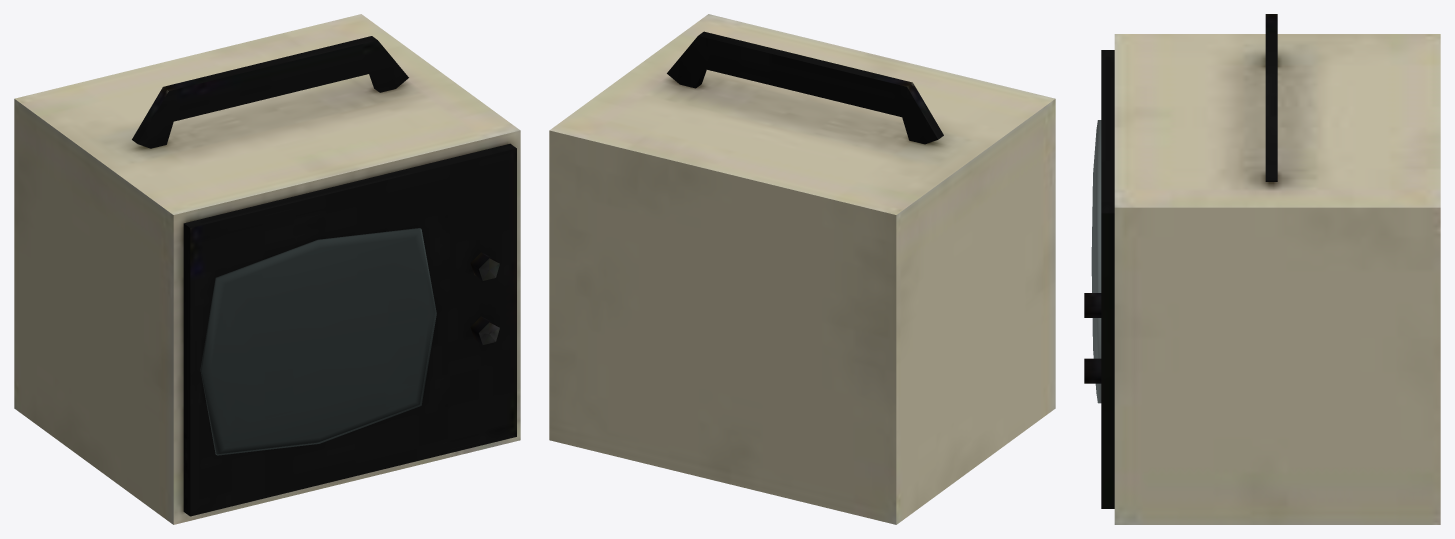
Rendered from tv_portable_lod1_web.glb.
The picture shows the model from 3 angles, left to right: view 1: azimuth 30°, elevation 25°; view 2: azimuth 150°, elevation 25°; view 3: azimuth 270°, elevation 25°; orthographic projection. The views are drawn at different scales.
Visible parts, largest first — view 1: TVPortable_Body, Glass_Screen; view 2: TVPortable_Body; view 3: TVPortable_Body, Glass_Screen.
Part boxes in pixels (x1,y1,x2,y2): TVPortable_Body: (14,14,520,524); Glass_Screen: (200,228,436,455); TVPortable_Body: (549,14,1055,524); TVPortable_Body: (1084,14,1440,524); Glass_Screen: (1091,120,1101,403).
Size of the model in its own units: 0.34 by 0.3398 by 0.295.
2 materials, 1 textured.
